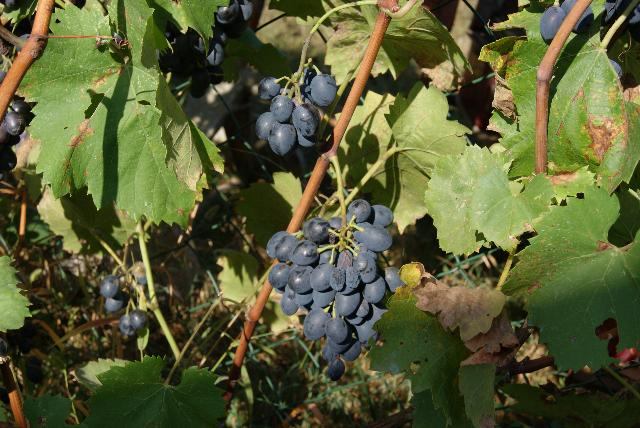grapes: (266, 200, 404, 380), (255, 68, 336, 156)
